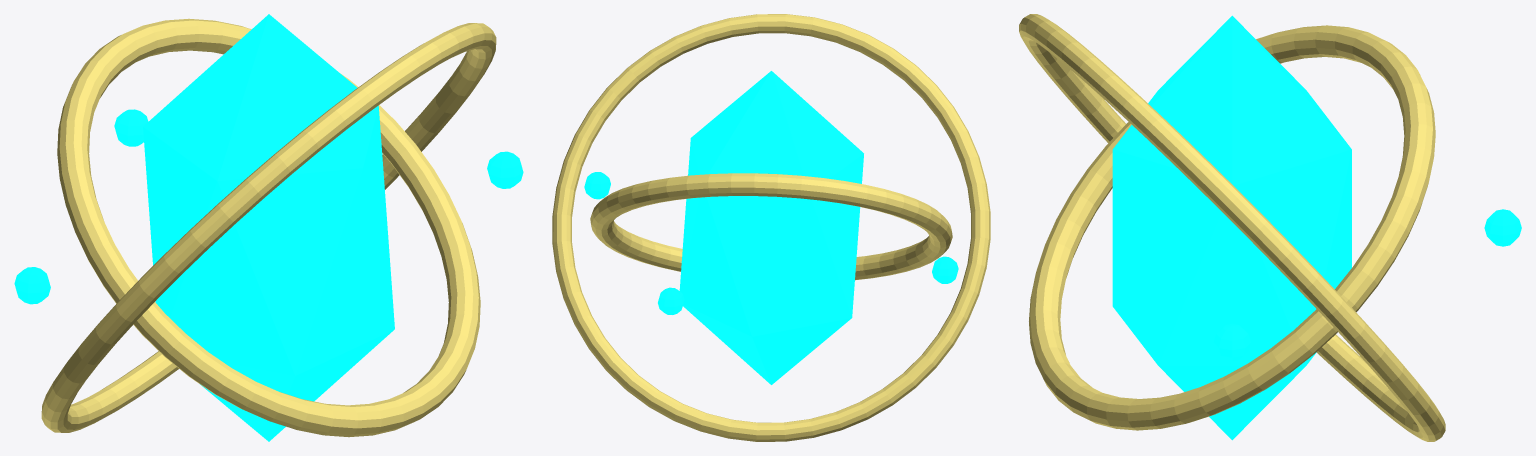
File: energy_fragment.glb
3 views of the same model, side by side, from view 1: azimuth 30°, elevation 25°; view 2: azimuth 150°, elevation 25°; view 3: azimuth 270°, elevation 25° (orthographic). The views are drawn at different scales.
Visible parts, largest first — view 1: CrystalCore, OrbitRing_Inner, OrbitRing_Outer, OrbitDot_0, OrbitDot_1, OrbitDot_2; view 2: CrystalCore, OrbitRing_Outer, OrbitRing_Inner, OrbitDot_0, OrbitDot_1, OrbitDot_2; view 3: CrystalCore, OrbitRing_Inner, OrbitRing_Outer, OrbitDot_2, OrbitDot_0.
Part boxes in pixels (box(x1,y1,x2,y2)): CrystalCore: box(143, 14, 394, 441); OrbitRing_Inner: box(57, 18, 480, 437); OrbitRing_Outer: box(41, 23, 496, 432); OrbitDot_0: box(487, 151, 523, 188); OrbitDot_1: box(14, 267, 50, 304); OrbitDot_2: box(114, 109, 148, 146); CrystalCore: box(679, 71, 863, 384); OrbitRing_Outer: box(552, 14, 990, 441); OrbitRing_Inner: box(590, 173, 952, 280); OrbitDot_0: box(584, 172, 610, 199); OrbitDot_1: box(932, 256, 958, 283); OrbitDot_2: box(658, 287, 684, 314); CrystalCore: box(1112, 15, 1351, 440); OrbitRing_Inner: box(1029, 25, 1435, 430); OrbitRing_Outer: box(1019, 14, 1445, 441); OrbitDot_2: box(1484, 209, 1521, 246); OrbitDot_0: box(1213, 323, 1250, 360).
Bounding box in the file's own units: 1.39 × 1.14 × 1.21.
